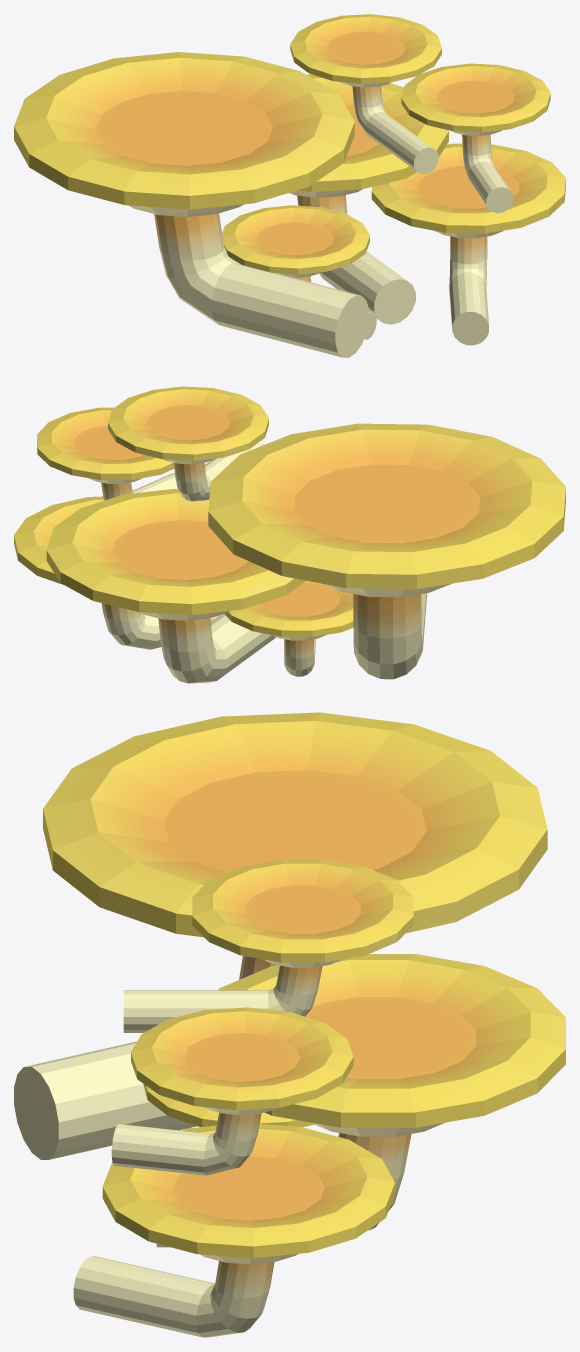
Rendered from oyster shrooms 1.fbx.
3 views of the same model, one above another, from view 1: azimuth 30°, elevation 25°; view 2: azimuth 150°, elevation 25°; view 3: azimuth 270°, elevation 25° (orthographic). The views are drawn at different scales.
Parts seen in each view (by area): view 1: Cylinder; view 2: Cylinder; view 3: Cylinder.
Boxes of the visible parts, x1,y1,x2,y2 form: Cylinder: (14, 14, 565, 357); Cylinder: (14, 386, 565, 683); Cylinder: (14, 712, 565, 1337).
Bounding box in the file's own units: 561 × 276 × 360.
1 material, 1 textured.
